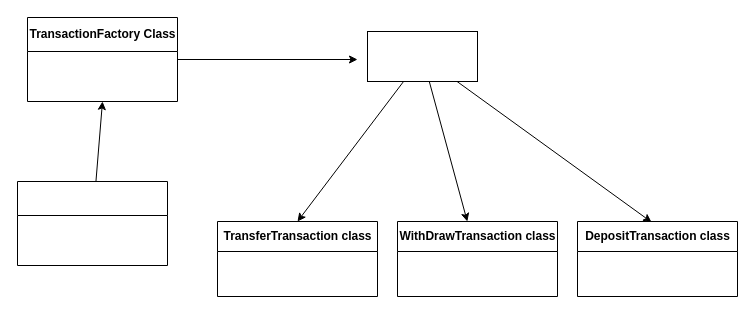
This 755x314 diagram has some shape labels left out. Here are the shapes that lost their labels. From the top down, the box of each, then its label:
(366, 30, 478, 82): «interface» Transaction
(16, 180, 168, 266): Main Class
